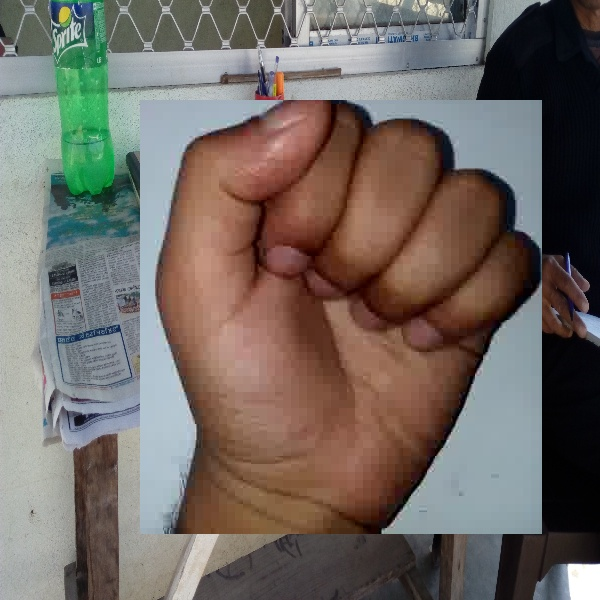A: (140, 100, 542, 534)
